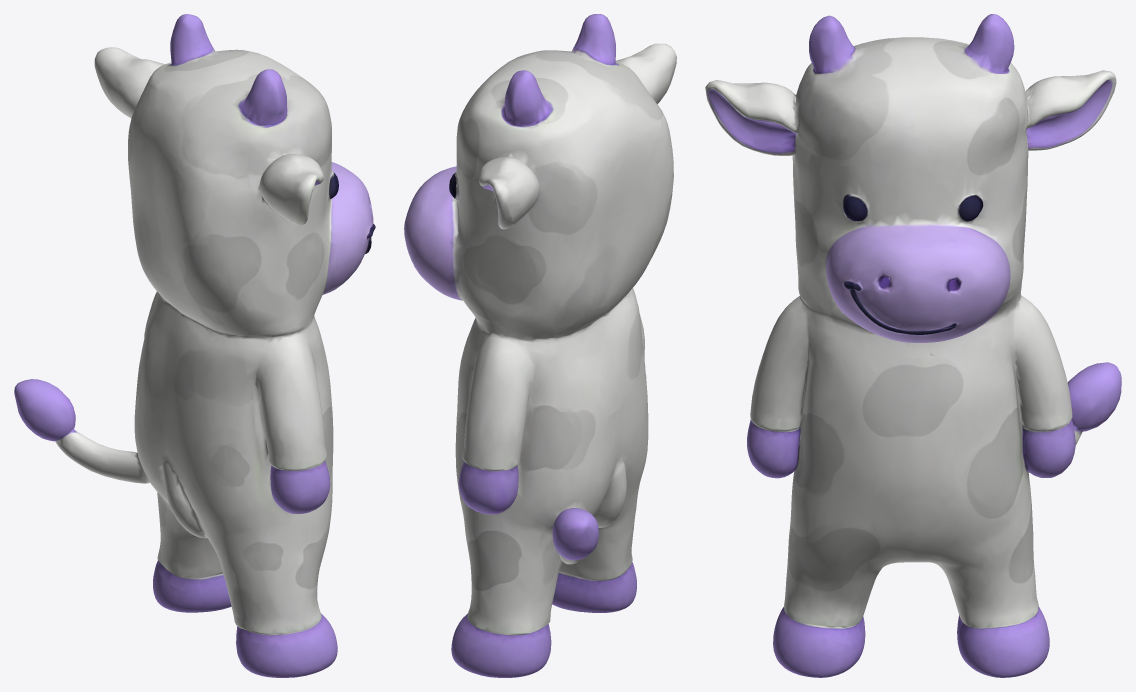
The model's file is milkshake.glb.
3 views of the same model, side by side, from view 1: azimuth 30°, elevation 25°; view 2: azimuth 150°, elevation 25°; view 3: azimuth 270°, elevation 25° (orthographic). The views are drawn at different scales.
Parts seen in each view (by area): view 1: tripo_node_ecd3d1ec-e567-45b5-80ca-fb06f2dd6693; view 2: tripo_node_ecd3d1ec-e567-45b5-80ca-fb06f2dd6693; view 3: tripo_node_ecd3d1ec-e567-45b5-80ca-fb06f2dd6693.
Boxes of the visible parts, x1,y1,x2,y2 form: tripo_node_ecd3d1ec-e567-45b5-80ca-fb06f2dd6693: [14, 14, 375, 677]; tripo_node_ecd3d1ec-e567-45b5-80ca-fb06f2dd6693: [404, 14, 676, 677]; tripo_node_ecd3d1ec-e567-45b5-80ca-fb06f2dd6693: [705, 14, 1121, 677].
Bounding box in the file's own units: 0.4504 × 0.9794 × 0.5841.
1 material, 1 textured.
